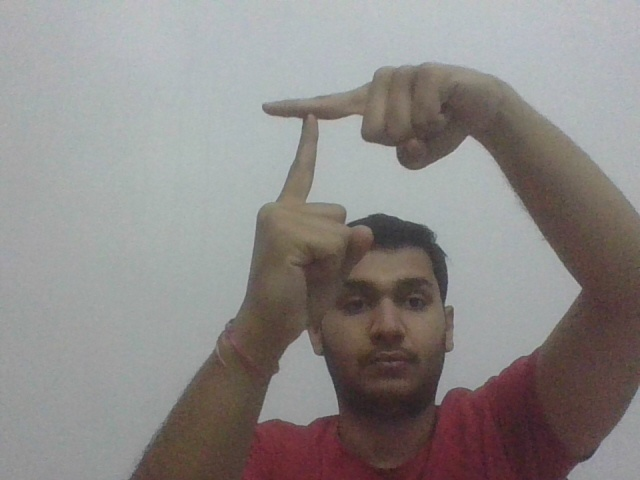T: (256, 88, 356, 200)
